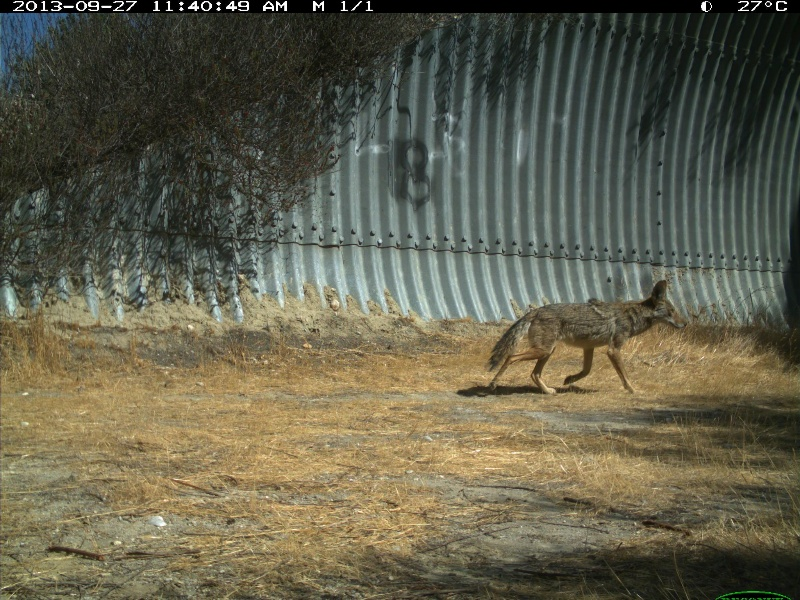coyote: (480, 278, 691, 400)
